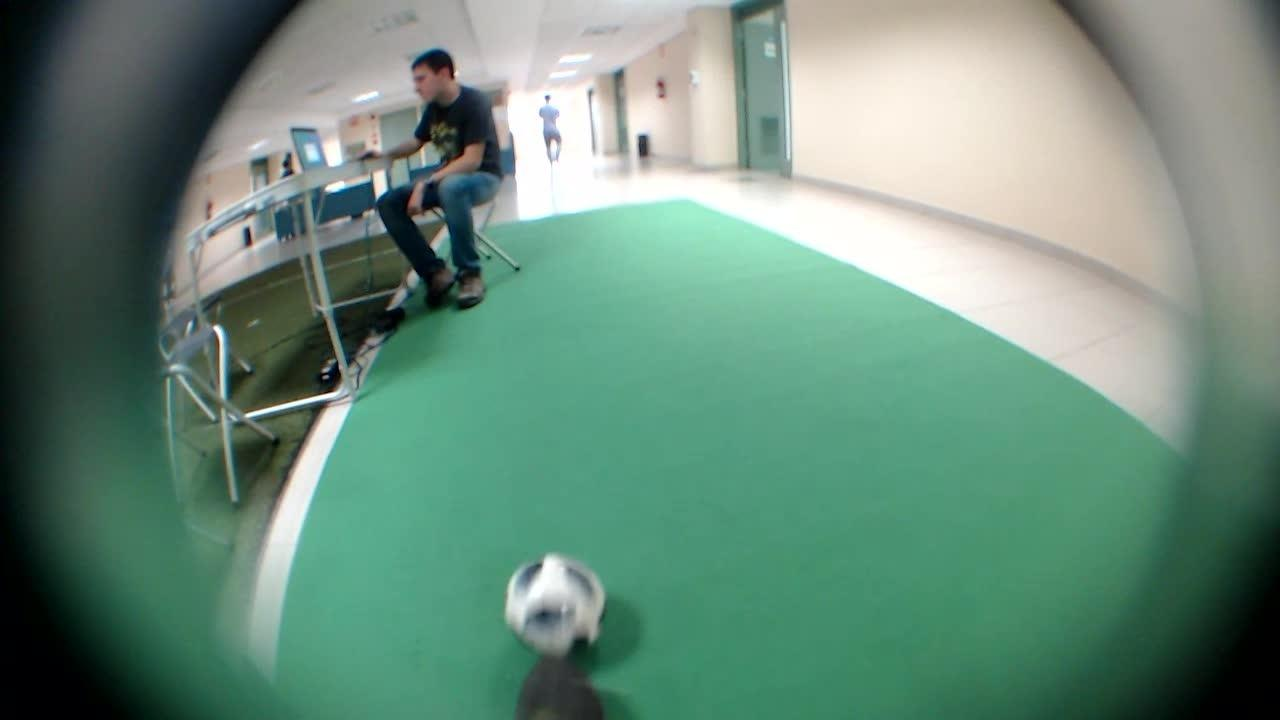ball: (484, 527, 628, 678)
